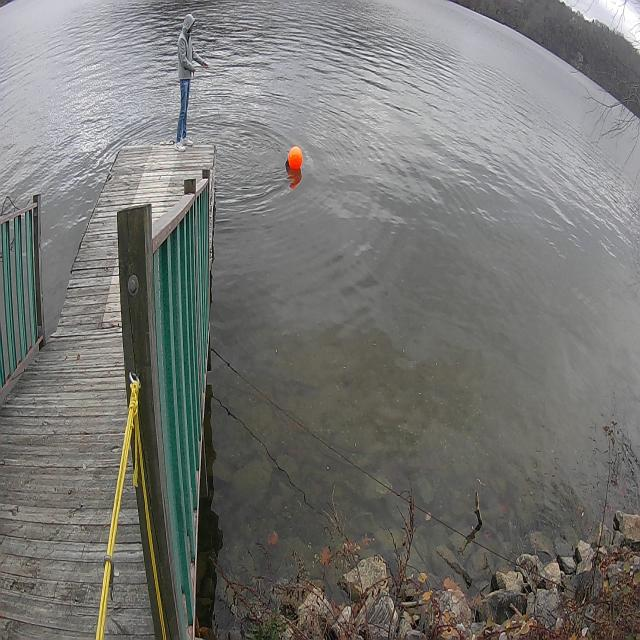Buoy: (284, 139, 304, 180)
